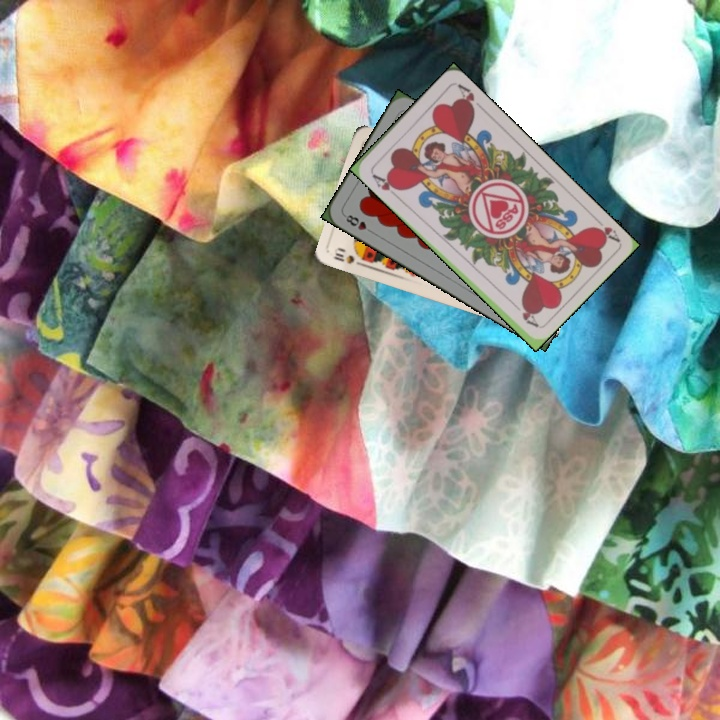H8: (340, 210, 377, 236)
HA: (367, 168, 403, 200), (588, 213, 622, 244)
S10: (330, 245, 367, 269)
